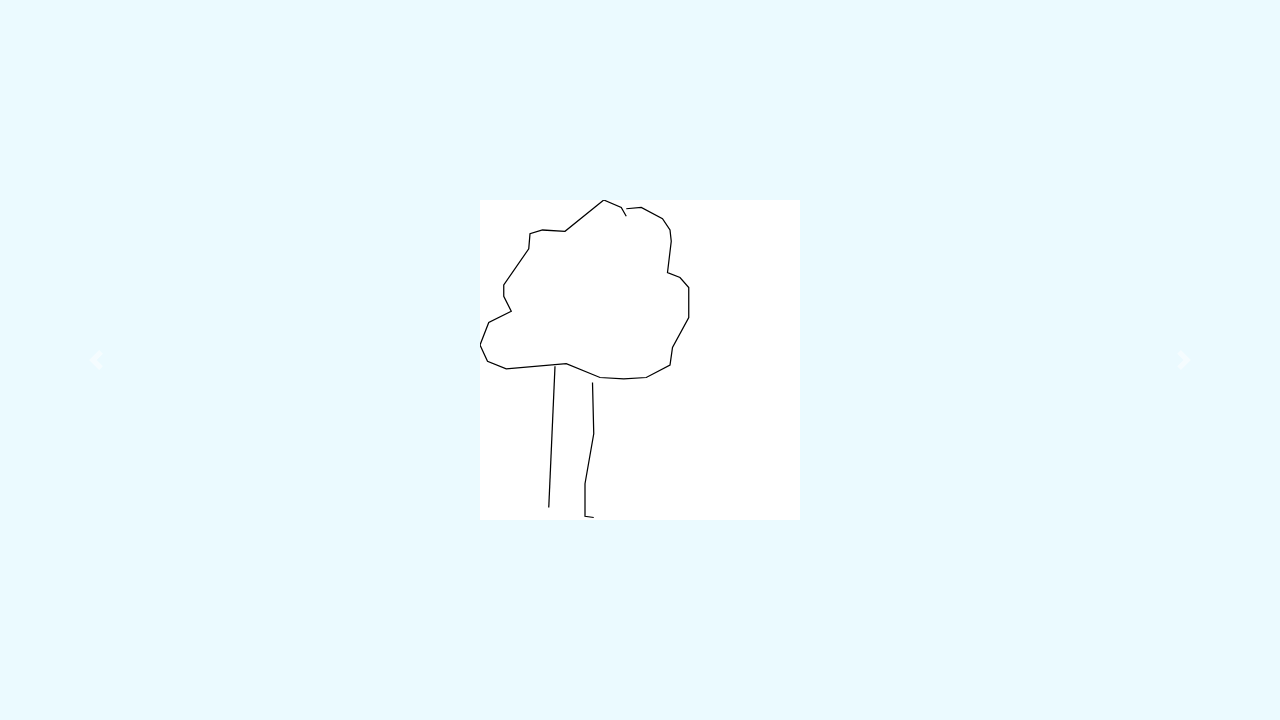tree: (472, 193, 697, 526)
